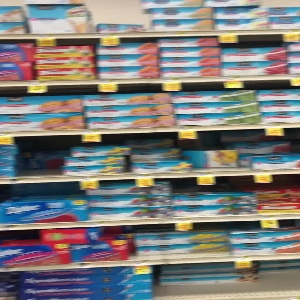void: (154, 263, 300, 298), (18, 136, 69, 176)
